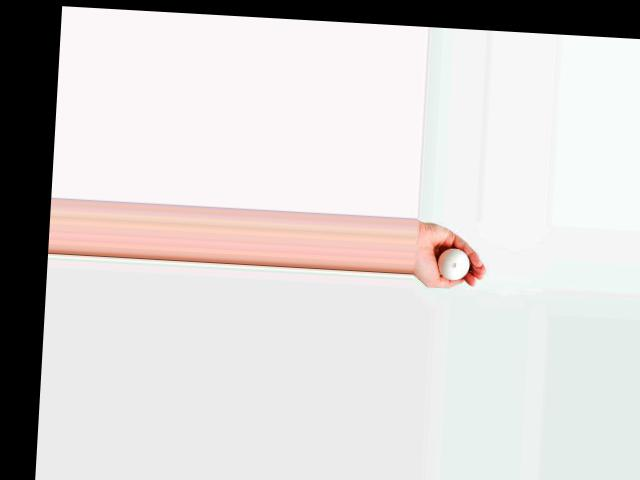egg: (437, 247, 471, 279)
